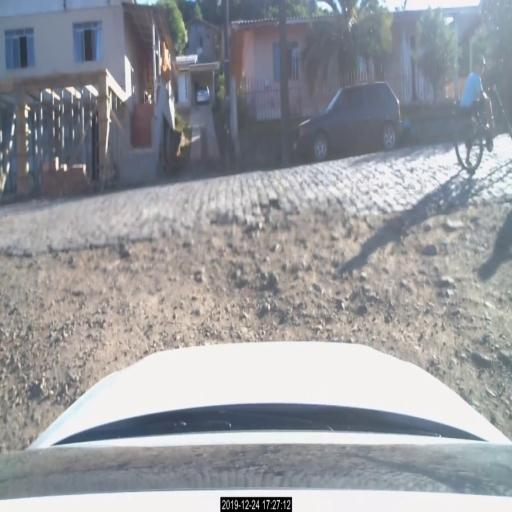Pothole: (220, 251, 313, 317), (331, 271, 395, 321), (192, 267, 212, 283), (311, 282, 325, 298)
